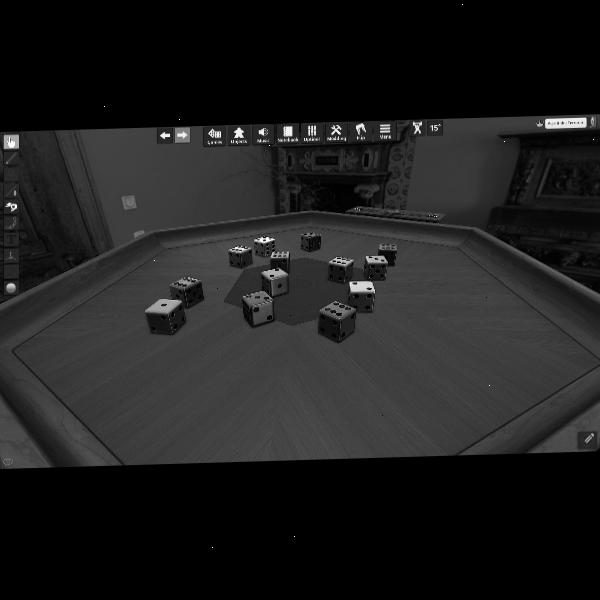d6: (318, 300, 356, 342), (144, 298, 186, 335), (168, 276, 204, 309), (242, 291, 274, 328), (348, 280, 376, 313), (261, 266, 289, 298), (327, 255, 352, 283), (364, 254, 388, 280), (228, 245, 252, 269), (254, 235, 276, 257), (270, 250, 290, 274), (378, 243, 397, 266), (301, 231, 317, 251)
